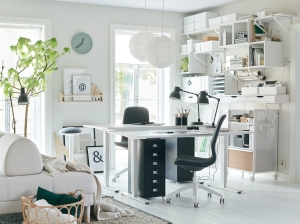chair: (165, 114, 226, 208)
